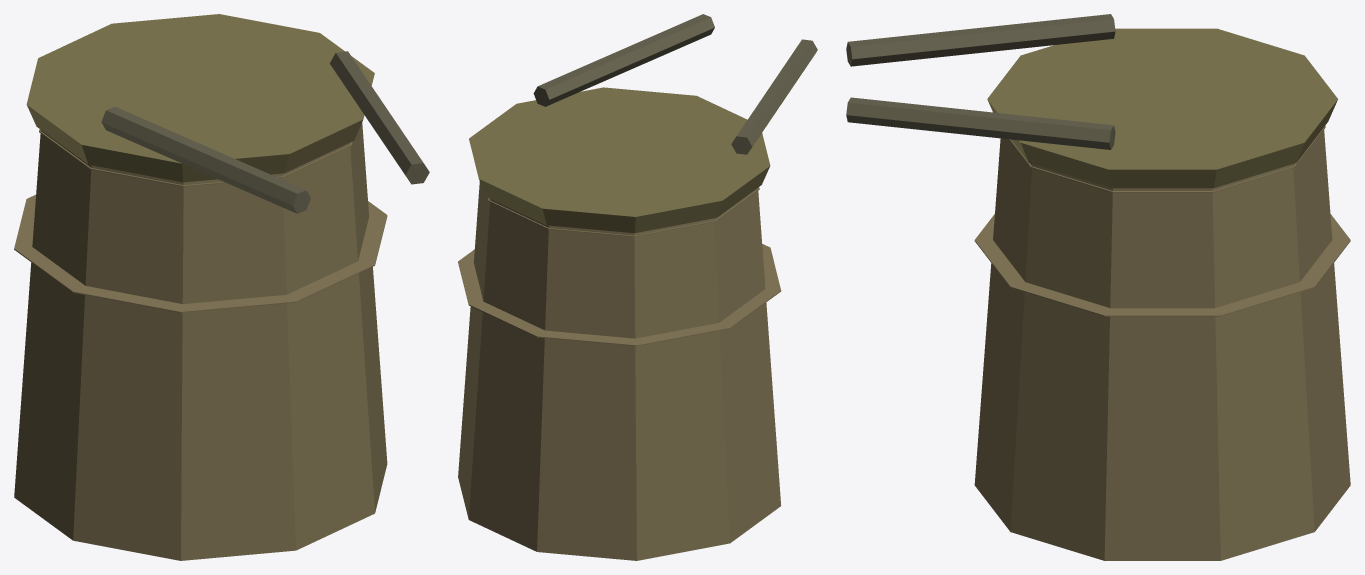
The model's file is rice_basket_back.glb.
3 views of the same model, side by side, from view 1: azimuth 30°, elevation 25°; view 2: azimuth 150°, elevation 25°; view 3: azimuth 270°, elevation 25° (orthographic). The views are drawn at different scales.
Visible parts, largest first — view 1: rice_basket_back; view 2: rice_basket_back; view 3: rice_basket_back.
Boxes of the visible parts, x1,y1,x2,y2 form: rice_basket_back: [14, 14, 429, 560]; rice_basket_back: [458, 14, 817, 560]; rice_basket_back: [846, 14, 1350, 560].
Size of the model in its own units: 0.2853 by 0.3637 by 0.4024.
1 material, 1 textured.
